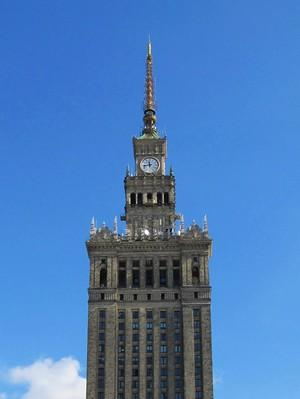building: (82, 128, 217, 397)
